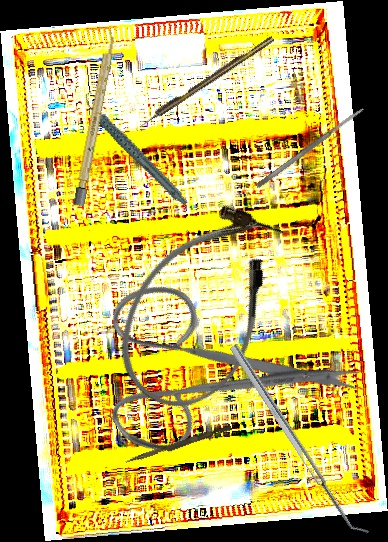Cannula: (93, 183, 310, 430)
Handpiece: (81, 77, 190, 222)
Hook Surgical: (136, 35, 276, 129)
Iris Scissors: (58, 210, 370, 516)
Pusher: (124, 422, 233, 468)
Scalpel Handle: (73, 29, 118, 208)
Spatula Surgical: (229, 339, 370, 542), (254, 105, 367, 190)
